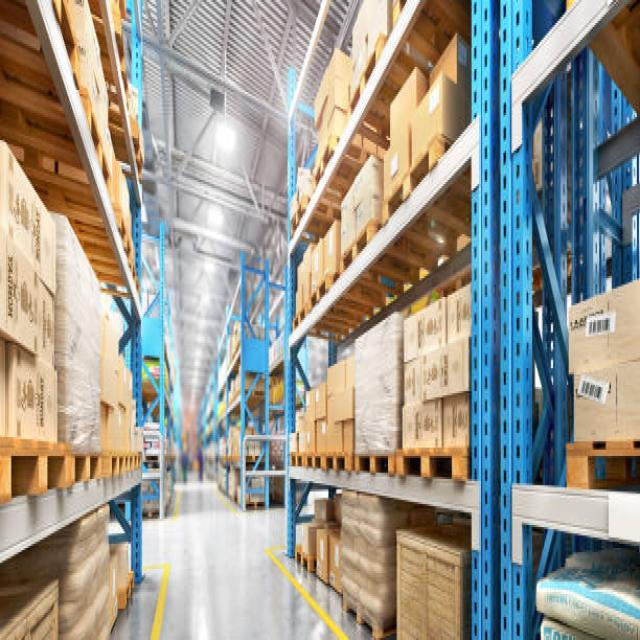Wooden-Pallets: (379, 127, 444, 229), (395, 439, 476, 515), (0, 429, 66, 520), (331, 580, 384, 640), (336, 220, 376, 278), (66, 438, 104, 499), (347, 442, 397, 484), (321, 447, 350, 483)
